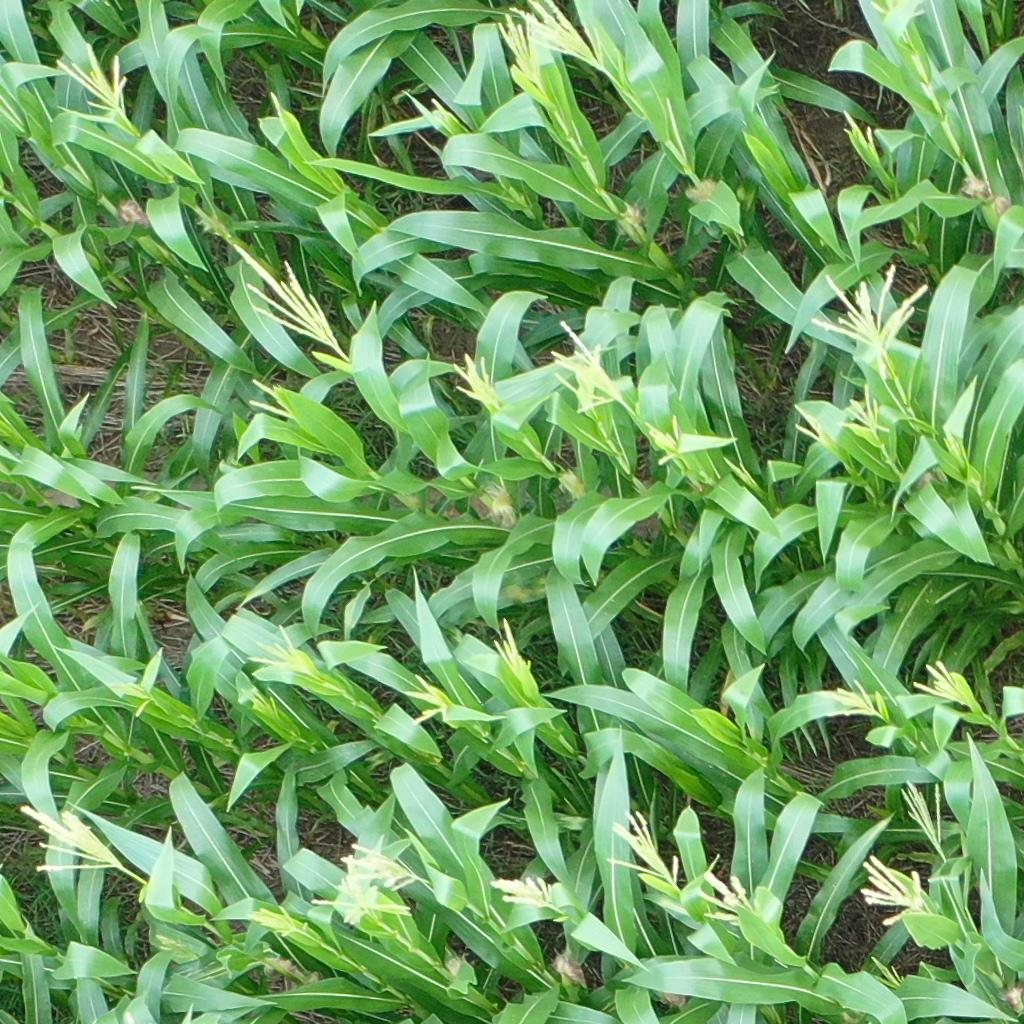Tassel: (802, 256, 933, 383), (229, 237, 347, 352), (537, 318, 632, 417), (15, 798, 130, 879), (48, 46, 139, 130), (508, 1, 610, 70), (599, 813, 681, 889), (855, 850, 929, 929), (307, 871, 415, 924), (336, 832, 423, 891), (487, 9, 549, 89), (239, 617, 315, 679), (688, 866, 760, 929), (893, 778, 949, 858), (443, 347, 503, 419), (812, 675, 887, 725), (484, 869, 562, 916), (487, 613, 536, 685), (908, 658, 974, 708), (837, 381, 892, 440), (241, 375, 303, 426), (398, 672, 450, 728), (640, 410, 689, 468), (240, 896, 303, 941), (105, 672, 156, 717), (836, 105, 879, 154), (865, 1, 925, 35), (787, 401, 828, 448), (236, 682, 279, 719), (868, 954, 906, 989), (941, 424, 968, 468), (430, 94, 453, 130)
